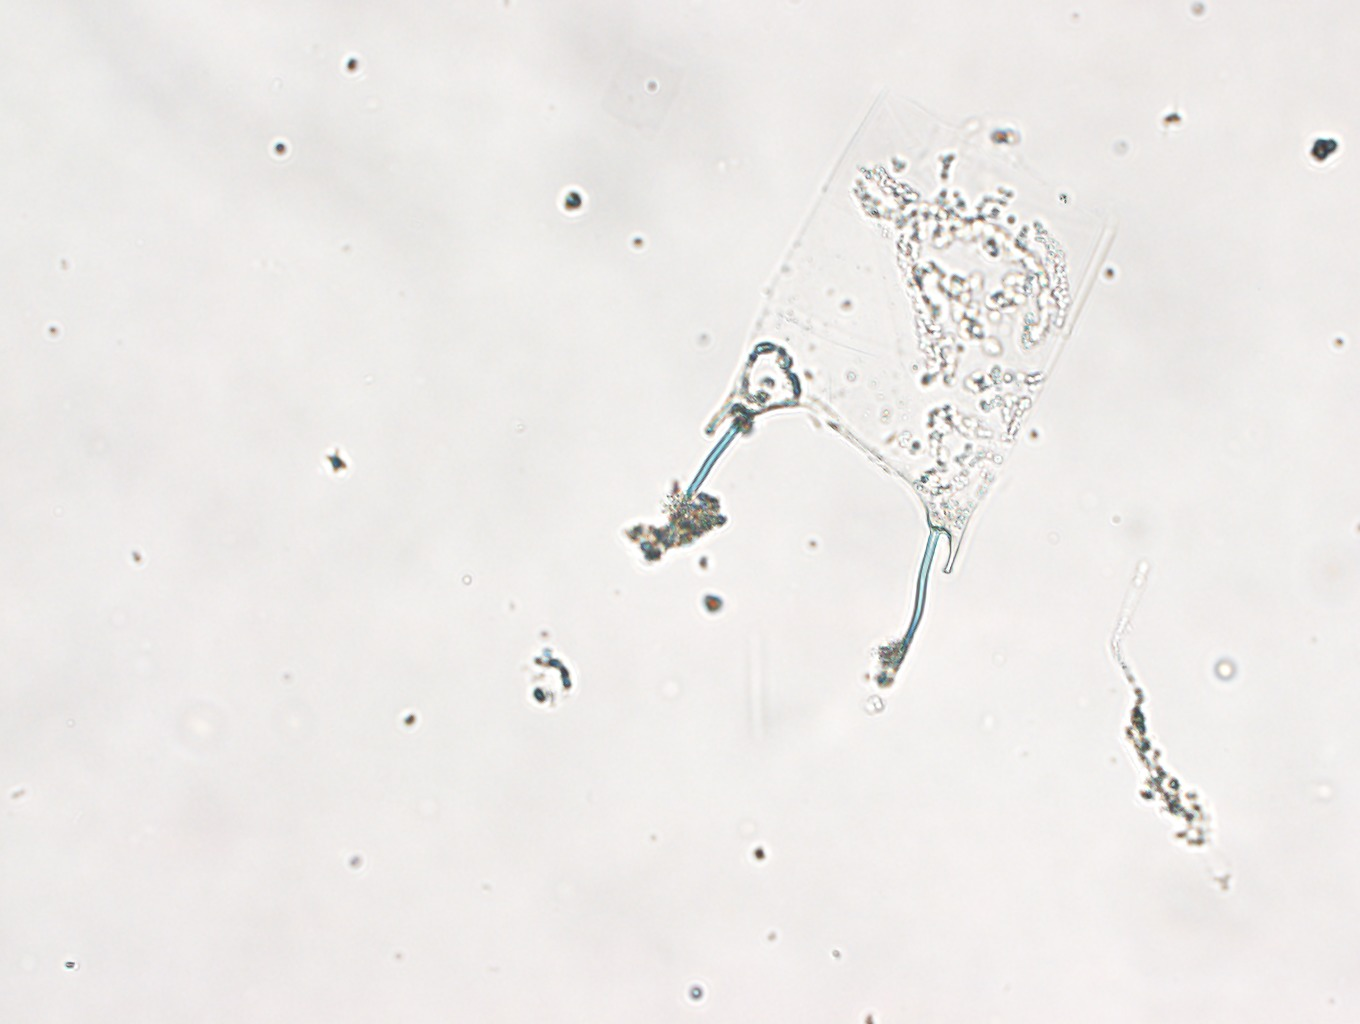biddulphia: (670, 41, 1128, 660)
